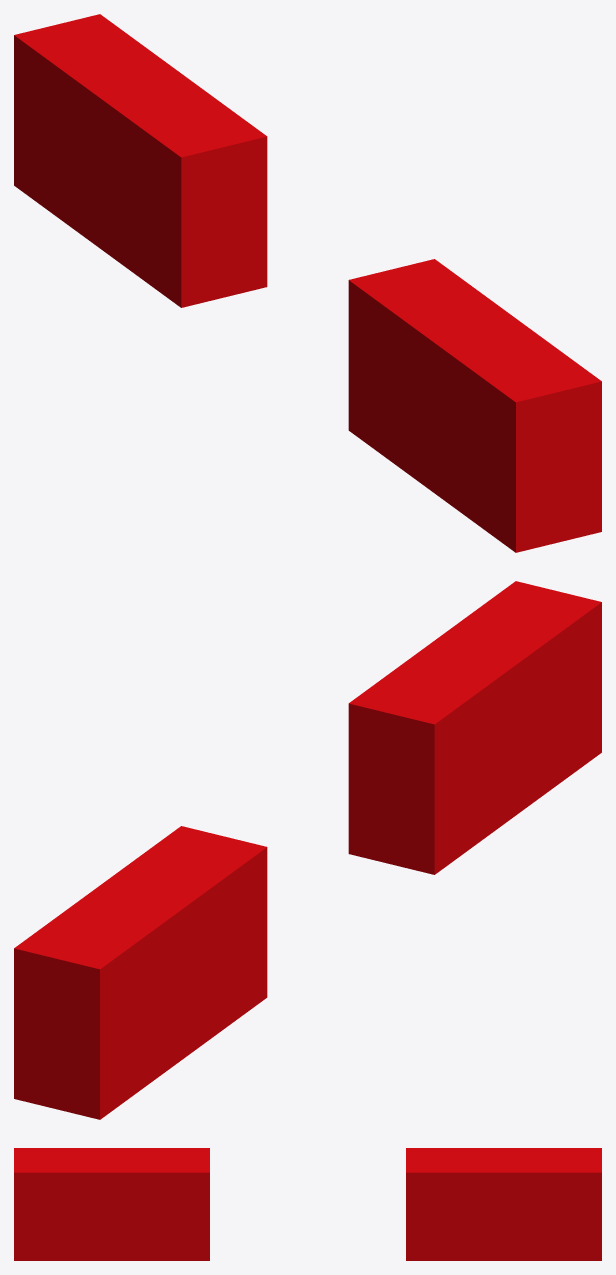
Rendered from obstacle2.fbx.
3 renders of one model, top to bottom at view 1: azimuth 30°, elevation 25°; view 2: azimuth 150°, elevation 25°; view 3: azimuth 270°, elevation 25°, orthographic. The views are drawn at different scales.
Parts seen in each view (by area): view 1: Cube; view 2: Cube; view 3: Cube.
Part boxes in pixels (x1,y1,x2,y2): Cube: (14,14,601,552); Cube: (14,581,601,1119); Cube: (14,1148,601,1260).
Bounding box in the file's own units: 120 × 200 × 1209.
